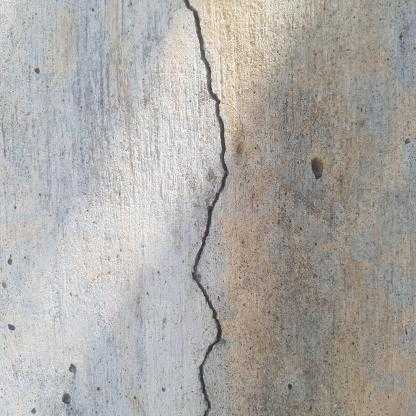crack: (184, 0, 229, 415)
